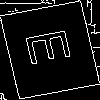E: (25, 25, 82, 67)
